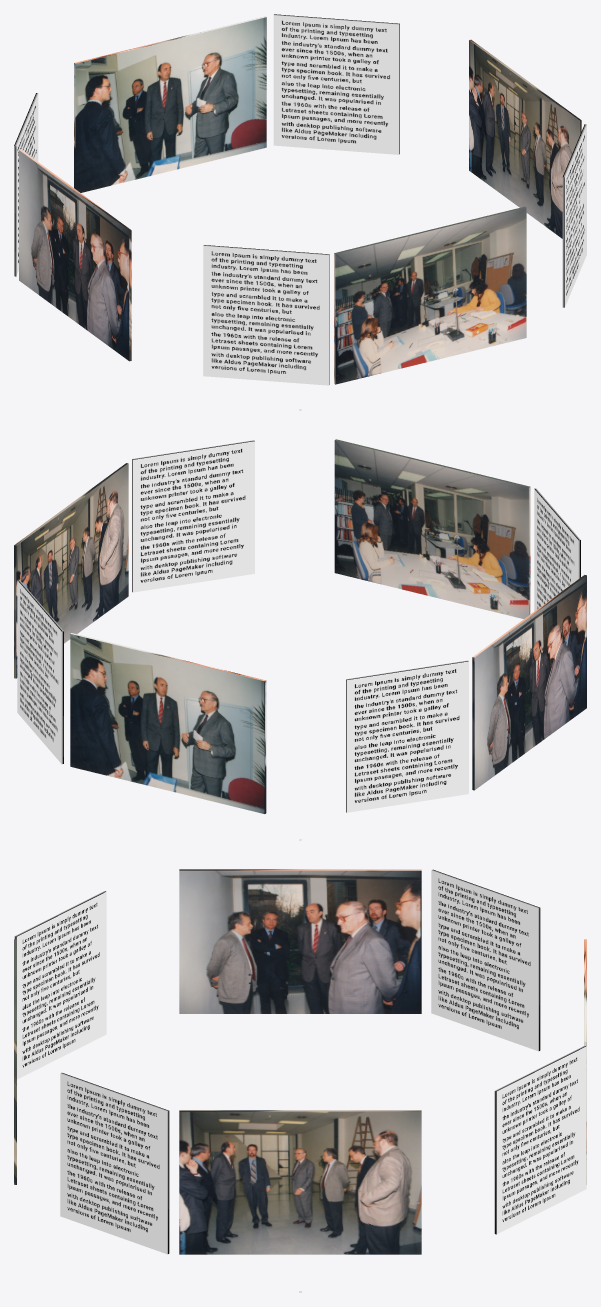
File: bundle004.glb
3 views of the same model, one above another, from view 1: azimuth 30°, elevation 25°; view 2: azimuth 150°, elevation 25°; view 3: azimuth 270°, elevation 25° (orthographic). The views are drawn at different scales.
Visible parts, largest first — view 1: Board 004, Board 002, Board 001.001, Board 001.002, Board 003, Board 001, Board 001.004, Board 001.003; view 2: Board 002, Board 004, Board 001.004, Board 001.003, Board 003, Board 001, Board 001.002, Board 001.001; view 3: Board 001, Board 003, Board 001.003, Board 001.004, Board 001.002, Board 001.001, Board 004.
Part boxes in pixels (x1,y1,x2,y2): Board 004: [334, 206, 526, 384]; Board 002: [74, 16, 266, 192]; Board 001.001: [203, 245, 329, 385]; Board 001.002: [273, 14, 399, 154]; Board 003: [19, 149, 131, 361]; Board 001: [469, 39, 581, 238]; Board 001.004: [562, 124, 586, 307]; Board 001.003: [14, 93, 38, 276]; Board 002: [70, 633, 266, 813]; Board 004: [334, 439, 530, 618]; Board 001.004: [132, 440, 254, 592]; Board 001.003: [346, 660, 468, 812]; Board 003: [472, 575, 586, 790]; Board 001: [14, 463, 128, 678]; Board 001.002: [17, 579, 63, 764]; Board 001.001: [534, 488, 580, 611]; Board 001: [179, 1110, 421, 1254]; Board 003: [179, 869, 421, 1013]; Board 001.003: [431, 869, 540, 1051]; Board 001.004: [60, 1073, 169, 1254]; Board 001.002: [494, 1045, 586, 1234]; Board 001.001: [14, 891, 106, 1079]; Board 004: [14, 939, 16, 1184].
Bounding box in the file's own units: 4.02 × 2.33 × 4.02.
Materials: 8 (8 with a texture image).
